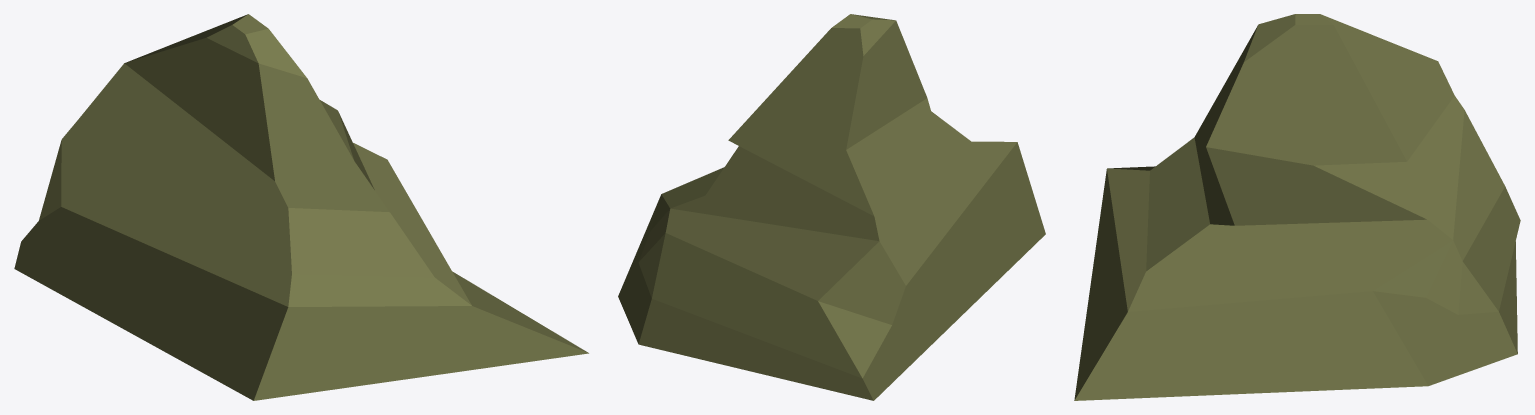
Rendered from iwa.fbx.
3 renders of one model, left to right at view 1: azimuth 30°, elevation 25°; view 2: azimuth 150°, elevation 25°; view 3: azimuth 270°, elevation 25°, orthographic. The views are drawn at different scales.
Parts seen in each view (by area): view 1: 立方体; view 2: 立方体; view 3: 立方体.
Part boxes in pixels (box(x1,y1,x2,y2)): 立方体: box(14, 14, 588, 400); 立方体: box(618, 14, 1045, 400); 立方体: box(1074, 14, 1520, 400).
Bounding box in the file's own units: 248 × 200 × 289.
